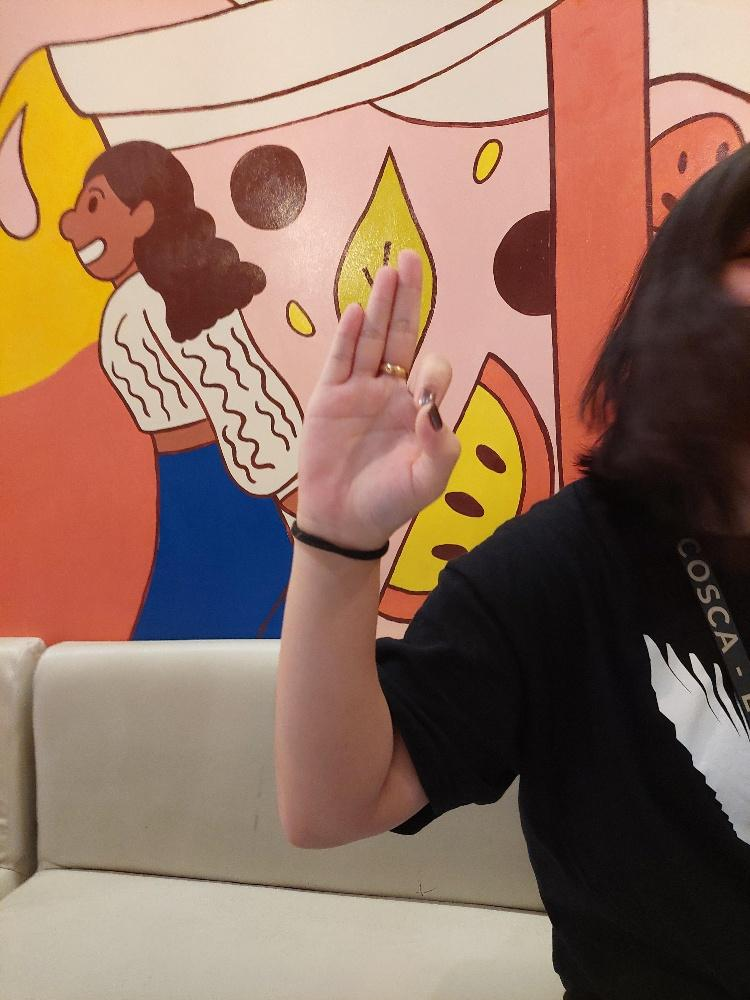f: (294, 245, 463, 548)
